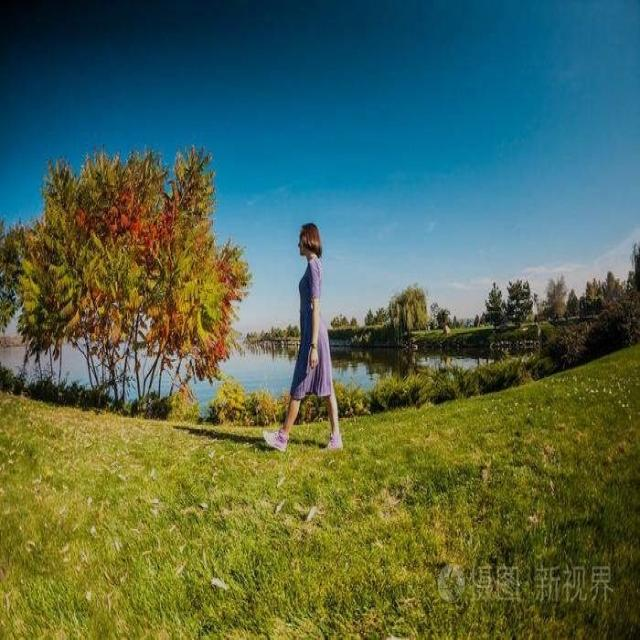non-fight: (259, 213, 351, 456)
